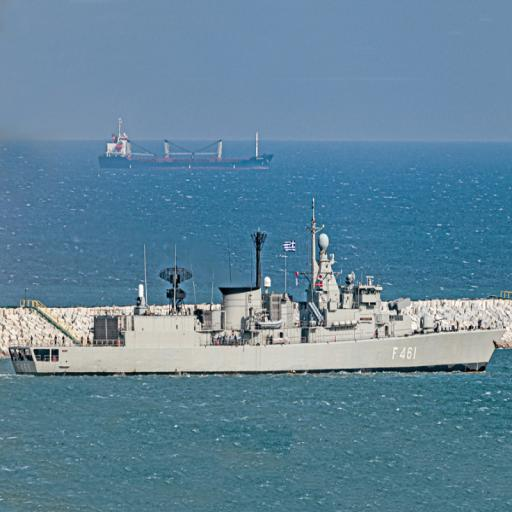Fragata: (9, 192, 511, 384)
